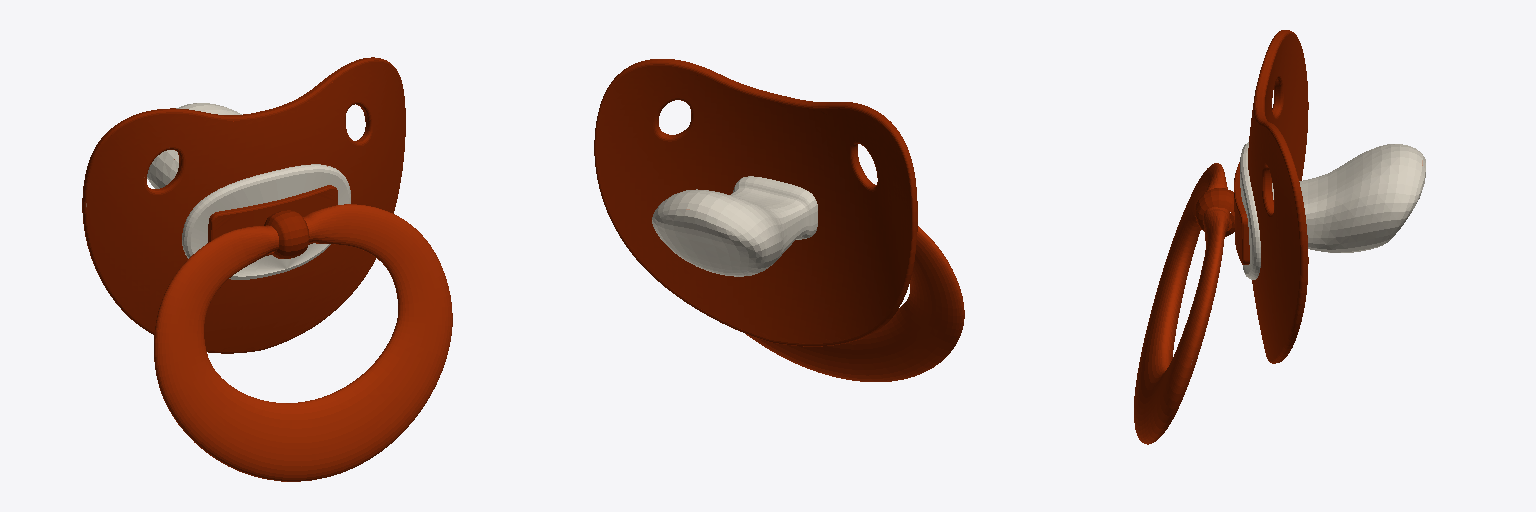
3 views of the same model, side by side, from view 1: azimuth 30°, elevation 25°; view 2: azimuth 150°, elevation 25°; view 3: azimuth 270°, elevation 25° (orthographic).
Parts seen in each view (by area): view 1: ring_2_Mesh.002; view 2: ring_2_Mesh.002; view 3: ring_2_Mesh.002.
Part boxes in pixels (left/top/right/bottom): ring_2_Mesh.002: left=82, top=57, right=452, bottom=481; ring_2_Mesh.002: left=594, top=59, right=964, bottom=381; ring_2_Mesh.002: left=1134, top=30, right=1425, bottom=444.
Bounding box in the file's own units: 0.3849 × 0.391 × 0.3028.
1 materials, 1 textured.